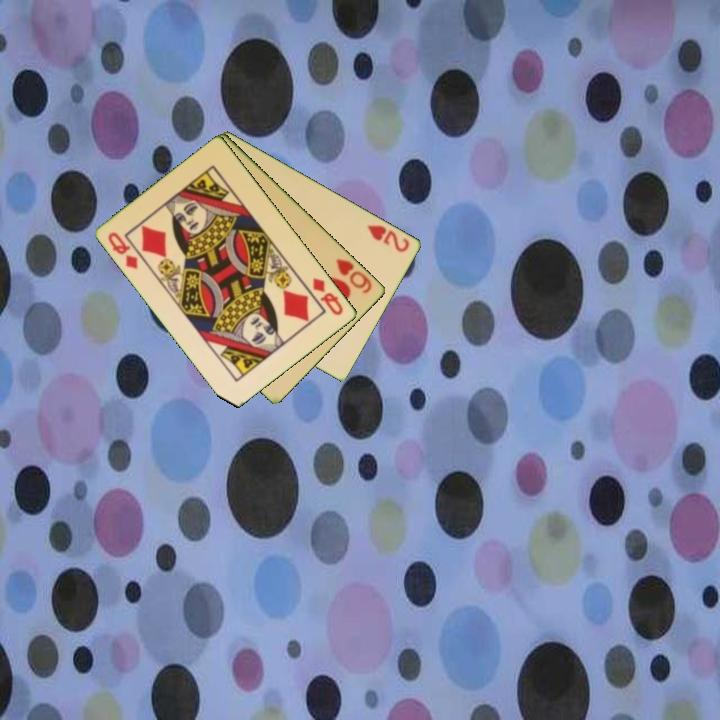2h: (364, 221, 413, 255)
6h: (333, 255, 375, 296)
Qd: (309, 274, 346, 319), (105, 228, 141, 272)
